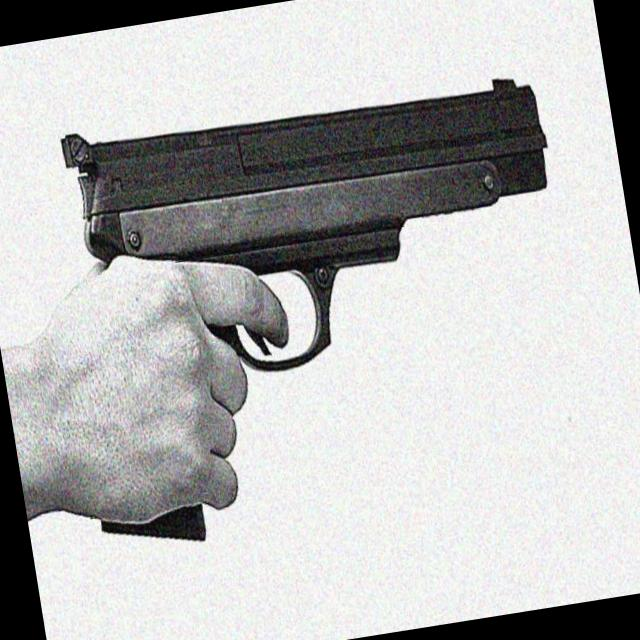Gun: (61, 79, 547, 370)
